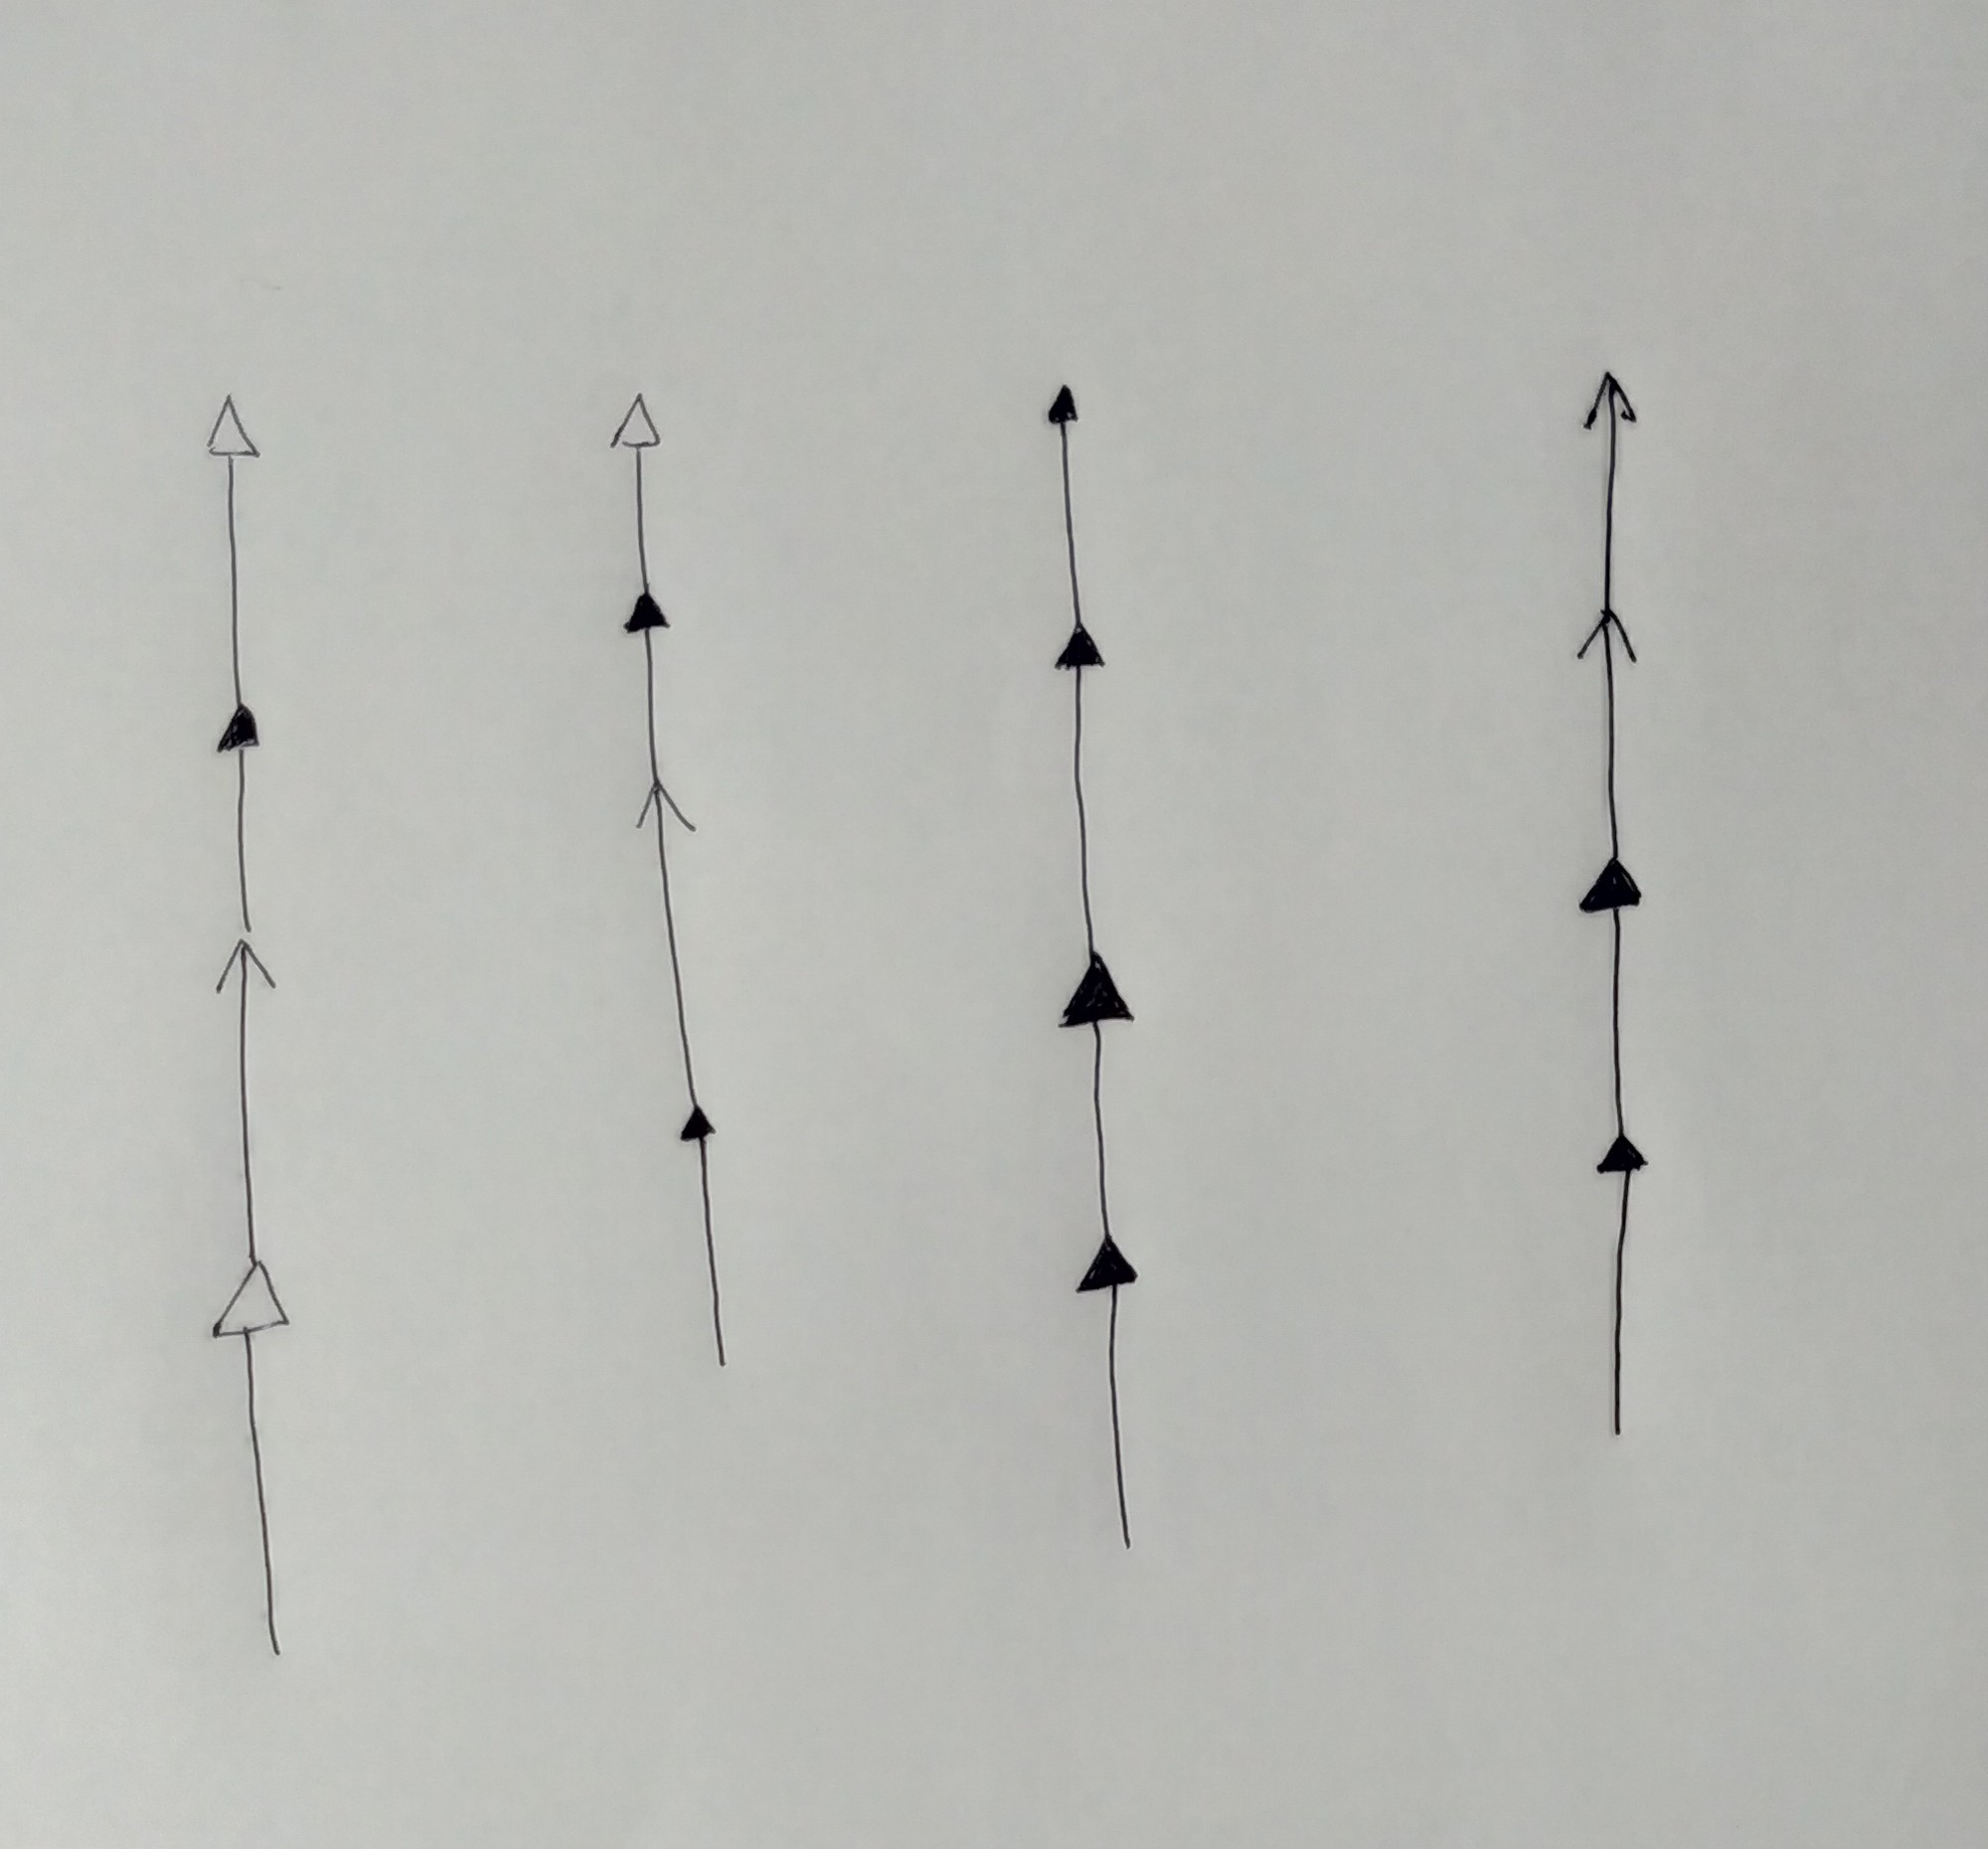arrow_line_up: (203, 1269, 308, 1665), (1046, 961, 1157, 1249), (1069, 1241, 1166, 1564), (1569, 858, 1672, 1140), (1044, 631, 1130, 963), (629, 779, 714, 1100), (209, 937, 285, 1260), (1587, 1137, 1663, 1442), (1569, 608, 1660, 858), (198, 394, 268, 709), (669, 1105, 745, 1380), (1034, 377, 1112, 633), (1574, 368, 1651, 610), (209, 702, 278, 942), (617, 584, 688, 785), (603, 386, 674, 584)
